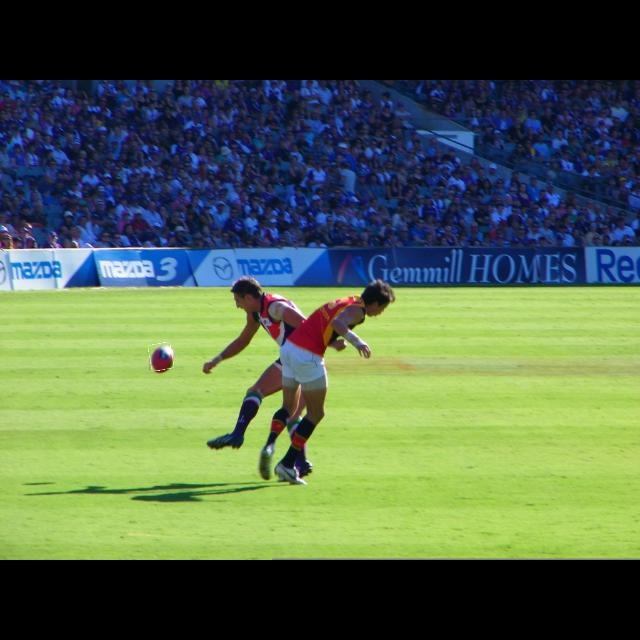Football: (149, 343, 173, 371)
